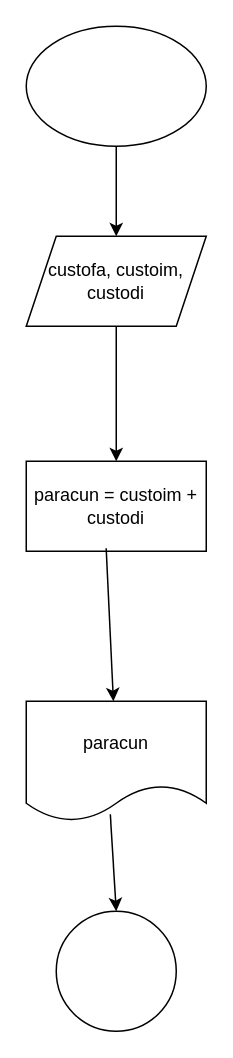
Image size: 233x1058. Some labels were removed from this diagram. The shapes that lost their labels are listed below. From the top down, each one's box as (x1, y1, x2, y2) in pixels, then its label:
(25, 25, 206, 146): inicio
(55, 910, 176, 1031): fim
